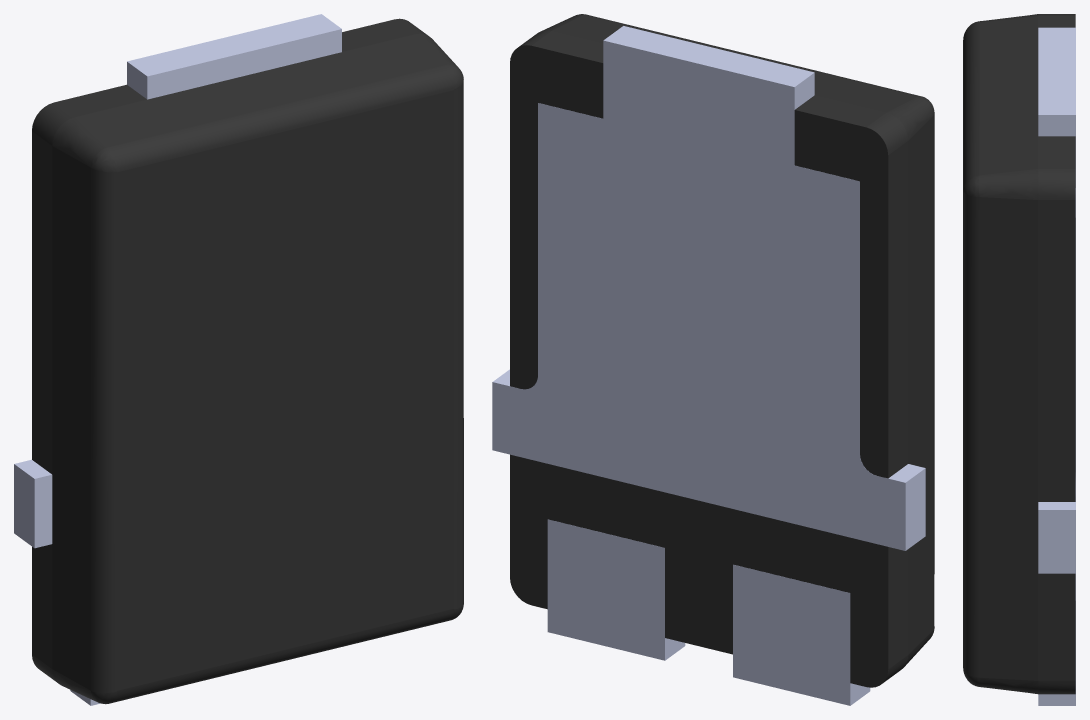
3 renders of one model, left to right at view 1: azimuth 30°, elevation 25°; view 2: azimuth 150°, elevation 25°; view 3: azimuth 270°, elevation 25°, orthographic. The views are drawn at different scales.
Parts seen in each view (by area): view 1: SW3dPS-TO-277A(SMPC)_4, SW3dPS-TO-277A(SMPC); view 2: SW3dPS-TO-277A(SMPC), SW3dPS-TO-277A(SMPC)_4, SW3dPS-TO-277A(SMPC)_2, SW3dPS-TO-277A(SMPC)_3; view 3: SW3dPS-TO-277A(SMPC)_4, SW3dPS-TO-277A(SMPC), SW3dPS-TO-277A(SMPC)_2.
Boxes of the visible parts, x1,y1,x2,y2 form: SW3dPS-TO-277A(SMPC)_4: (32,18,463,704); SW3dPS-TO-277A(SMPC): (14,14,341,548); SW3dPS-TO-277A(SMPC): (492,26,925,550); SW3dPS-TO-277A(SMPC)_4: (510,14,934,687); SW3dPS-TO-277A(SMPC)_2: (547,519,685,660); SW3dPS-TO-277A(SMPC)_3: (733,564,870,705); SW3dPS-TO-277A(SMPC)_4: (963,14,1075,694); SW3dPS-TO-277A(SMPC): (1038,27,1075,573); SW3dPS-TO-277A(SMPC)_2: (1038,574,1075,705).
Bounding box in the file's own units: 4.75 × 6.65 × 1.2.
